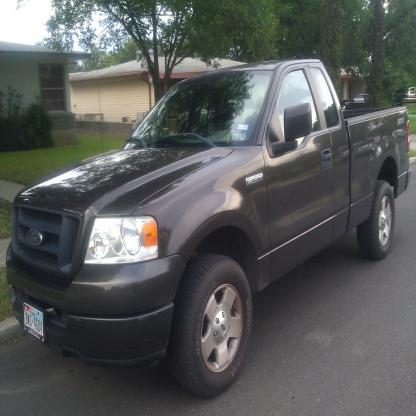car: (5, 57, 411, 404)
